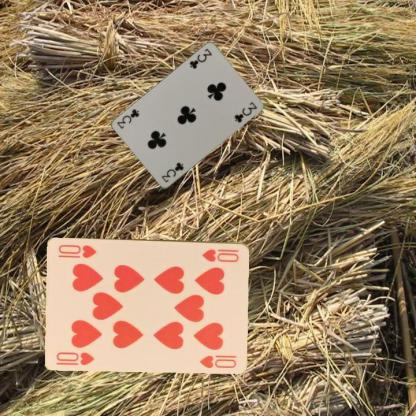10h: (54, 349, 95, 366), (200, 246, 240, 263)
3c: (187, 46, 213, 71), (159, 160, 185, 184)
